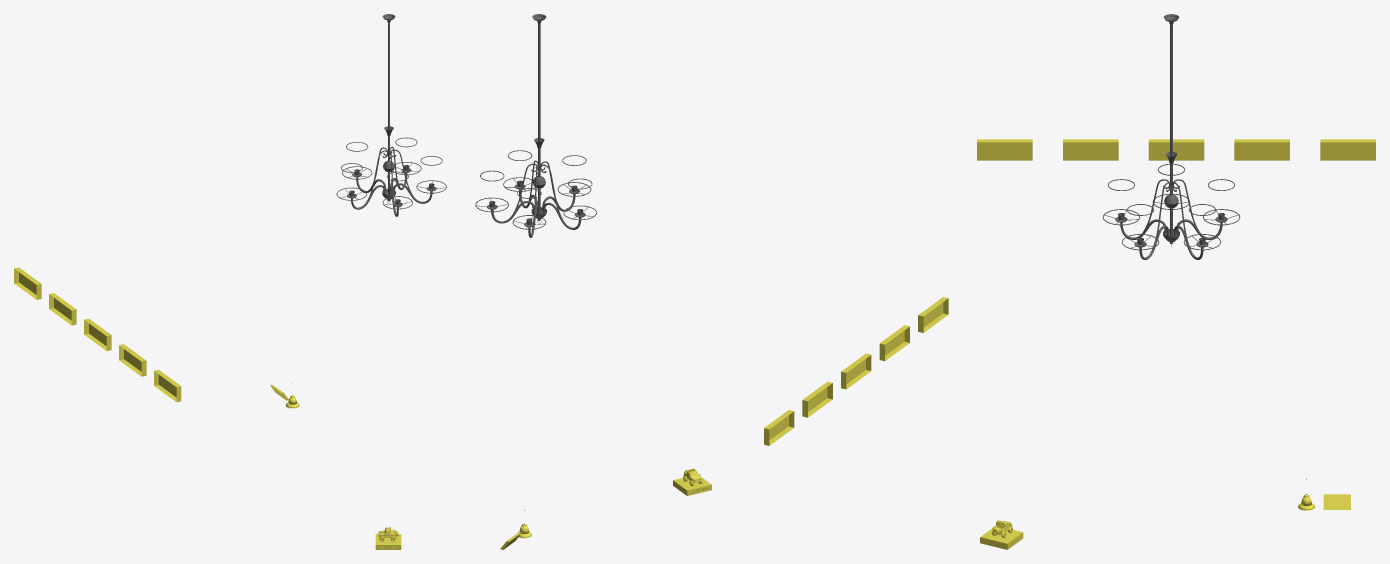
Rendered from reception_metal.glb.
The picture shows the model from 3 angles, left to right: view 1: azimuth 30°, elevation 25°; view 2: azimuth 150°, elevation 25°; view 3: azimuth 270°, elevation 25°; orthographic projection. The views are drawn at different scales.
Visible parts, largest first — view 1: gold, metal; view 2: gold, metal; view 3: gold, metal.
Boxes of the visible parts, x1,y1,x2,y2 form: gold: (14, 267, 401, 549); metal: (336, 14, 446, 216); gold: (500, 297, 948, 549); metal: (475, 14, 596, 237); gold: (977, 139, 1375, 549); metal: (1102, 14, 1240, 259).
Bounding box in the file's own units: 2.77 × 3.63 × 2.32.
